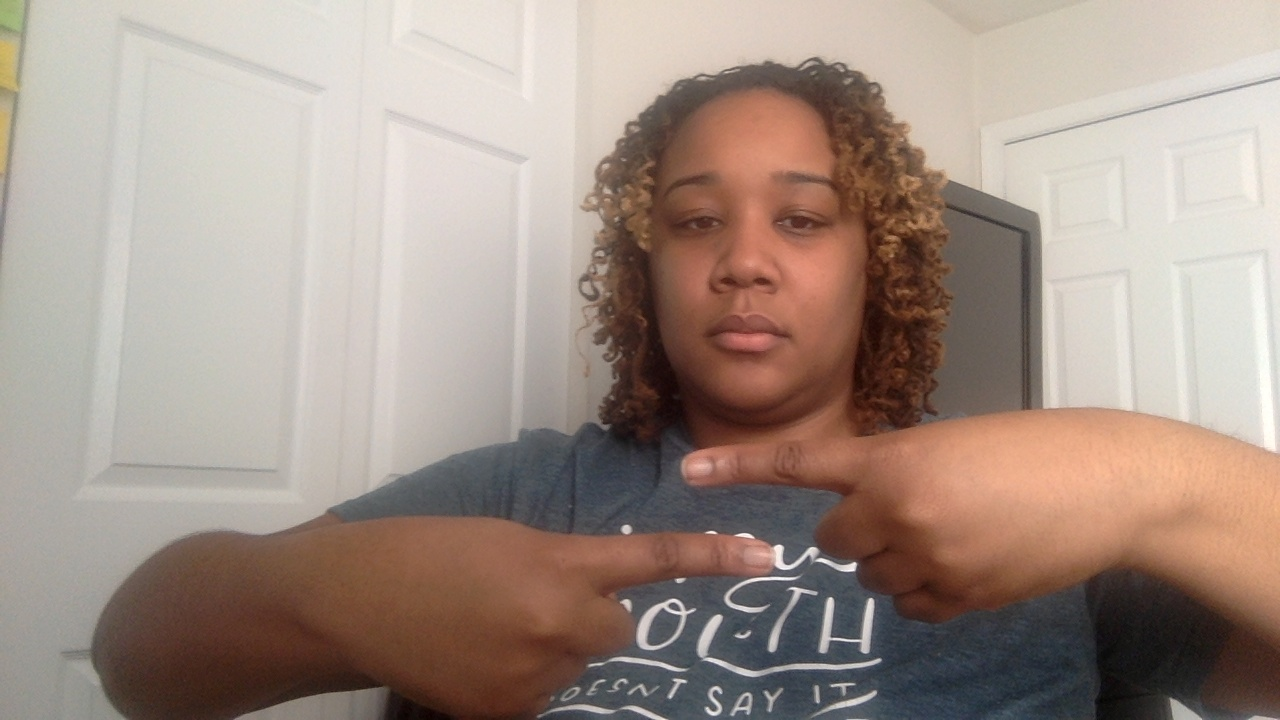go: (82, 403, 1277, 718)
